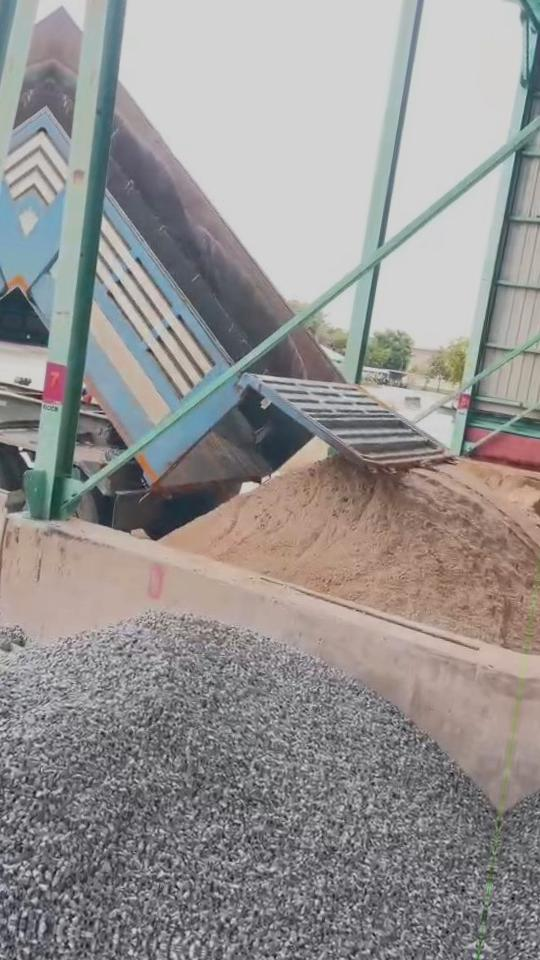gravel: (0, 613, 495, 960), (0, 623, 25, 666)
sand: (162, 458, 540, 649), (449, 458, 540, 524), (282, 438, 327, 470)
